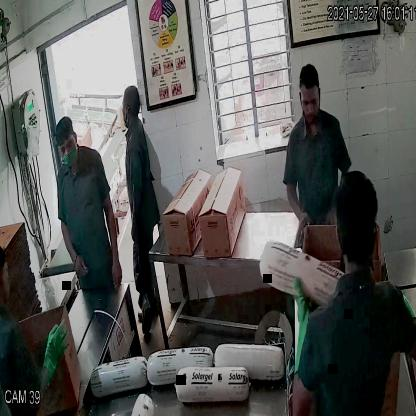no_goggles: (297, 90, 324, 111), (54, 137, 78, 156)
